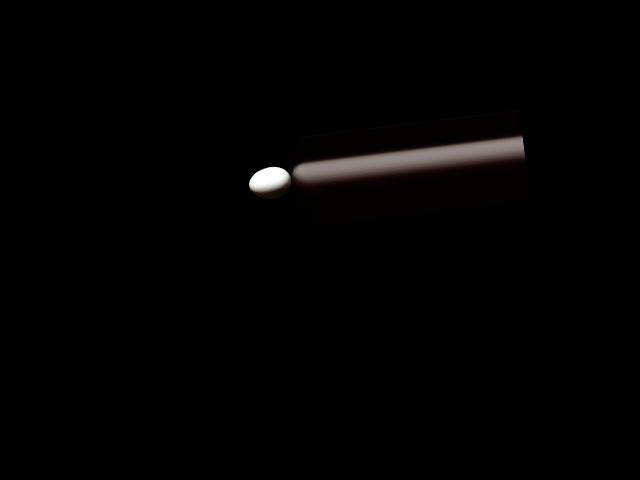egg: (247, 164, 293, 200)
